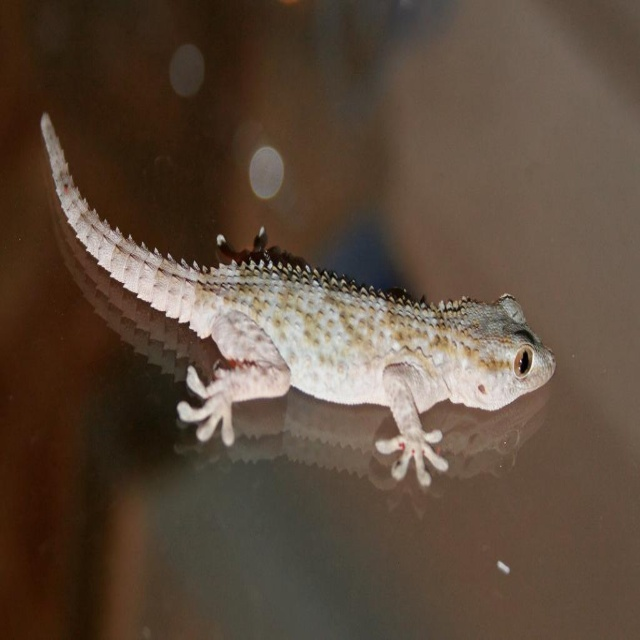Lizard: (41, 113, 556, 487)
